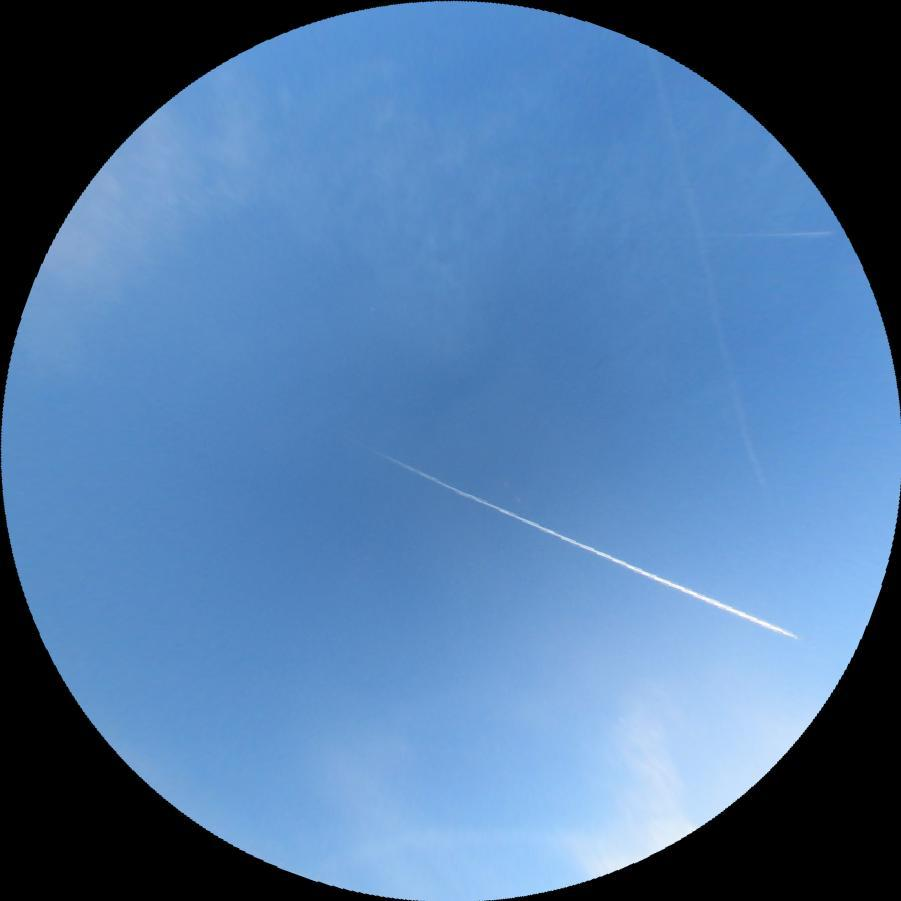contrail old: (639, 43, 770, 491)
contrail young: (367, 447, 803, 643), (702, 227, 834, 241)
